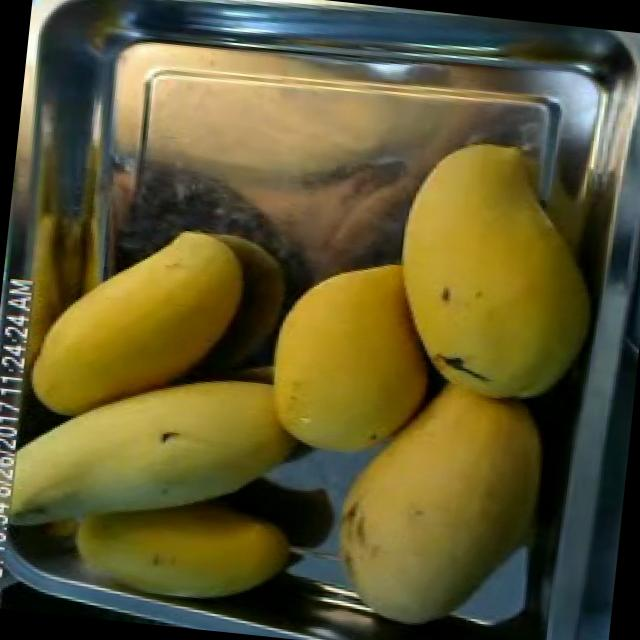fruit: (0, 317, 326, 617), (360, 118, 618, 419), (303, 375, 561, 640), (227, 220, 470, 490), (8, 197, 268, 445), (36, 468, 312, 626), (8, 0, 77, 231)
